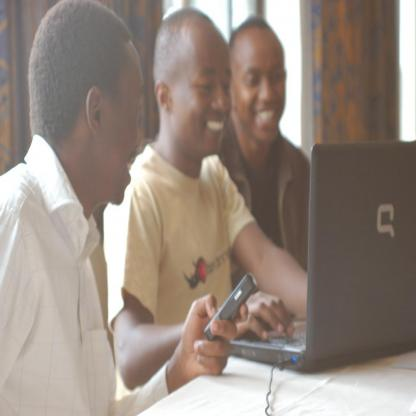board: (228, 135, 414, 373)
